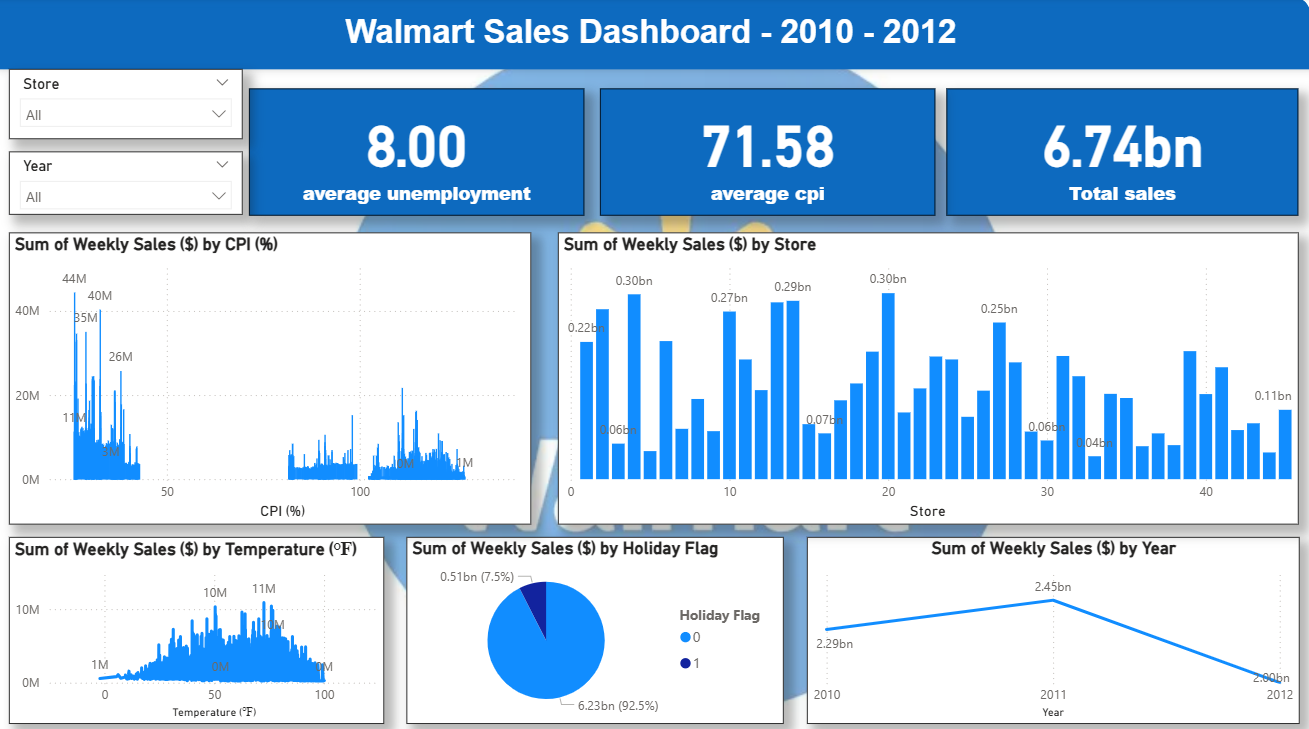

This screenshot's page, from the dashboard's own definition file:
{"tool":"powerbi","page":{"name":"Page 1","canvas":[1280,720],"ordinal":0},"visuals":[{"type":"card","title":"        Total sales","fields":{"Values":["Sum(Walmart.Weekly Sales ($))"]},"box":[927.8,89.1,341.7,123.1],"z":0},{"type":"shape","box":[0,0,1280.8,58.3],"z":1000},{"type":"textbox","box":[0,9.7,1280.8,59.9],"z":2000},{"type":"card","title":"        Total sales","fields":{"Values":["Walmart.average cpi"]},"box":[591,89.1,325.5,123.1],"z":3000},{"type":"card","title":"        Total sales","fields":{"Values":["Walmart.average unemployment"]},"box":[251,89.1,325.5,123.1],"z":4000},{"type":"lineChart","fields":{"Category":["Walmart.Date.Variation.Date Hierarchy.Year","Walmart.Date.Variation.Date Hierarchy.Quarter","Walmart.Date.Variation.Date Hierarchy.Month","Walmart.Date.Variation.Date Hierarchy.Day"],"Y":["Sum(Walmart.Weekly Sales ($))"]},"box":[791.8,524.6,477.7,181.4],"z":5000},{"type":"clusteredColumnChart","fields":{"Category":["Walmart.Store"],"Y":["Sum(Walmart.Weekly Sales ($))"]},"box":[550.5,228.3,718.9,283.4],"z":6000},{"type":"pieChart","fields":{"Category":["Walmart.Holiday Flag"],"Y":["Sum(Walmart.Weekly Sales ($))"]},"box":[403.2,524.6,365.9,181.4],"z":7000},{"type":"clusteredColumnChart","fields":{"Y":["Sum(Walmart.Weekly Sales ($))"],"Category":["Walmart.CPI (%)"]},"box":[17.8,228.3,506.8,283.4],"z":8000},{"type":"lineChart","fields":{"Category":["Walmart.Temperature (℉)"],"Y":["Sum(Walmart.Weekly Sales ($))"]},"box":[17.8,524.6,364.3,181.4],"z":9000},{"type":"slicer","fields":{"Values":["Walmart.Store"]},"box":[17.8,69.6,226.7,68],"z":10000},{"type":"slicer","fields":{"Values":["Walmart.Date.Variation.Date Hierarchy.Year"]},"box":[17.8,150.6,226.7,61.5],"z":11000}]}

Visuals, with their boxes in screenshot pixels (x1, y1, x2, y2), scaled from the page's 1280x720 canvas onto the 1309x729 screenshot:
"        Total sales" card: [949, 90, 1298, 215]
shape: [0, 0, 1308, 59]
textbox: [0, 10, 1308, 70]
"        Total sales" card: [604, 90, 937, 215]
"        Total sales" card: [257, 90, 590, 215]
lineChart - Walmart.Date.Variation.Date Hierarchy.Year x Walmart.Date.Variation.Date Hierarchy.Quarter: [810, 531, 1298, 715]
clusteredColumnChart - Walmart.Store x Sum(Walmart.Weekly Sales ($)): [563, 231, 1298, 518]
pieChart - Walmart.Holiday Flag x Sum(Walmart.Weekly Sales ($)): [412, 531, 787, 715]
clusteredColumnChart - Sum(Walmart.Weekly Sales ($)) x Walmart.CPI (%): [18, 231, 536, 518]
lineChart - Walmart.Temperature (℉) x Sum(Walmart.Weekly Sales ($)): [18, 531, 391, 715]
slicer - Walmart.Store: [18, 70, 250, 139]
slicer - Walmart.Date.Variation.Date Hierarchy.Year: [18, 152, 250, 215]
